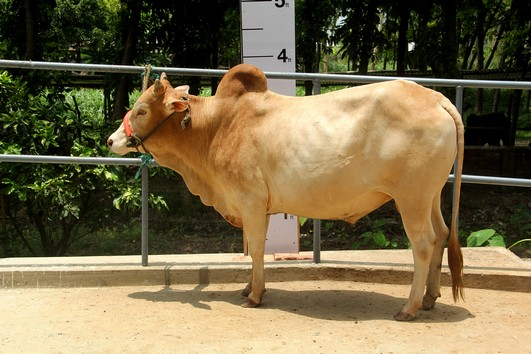cow: (101, 57, 479, 327)
